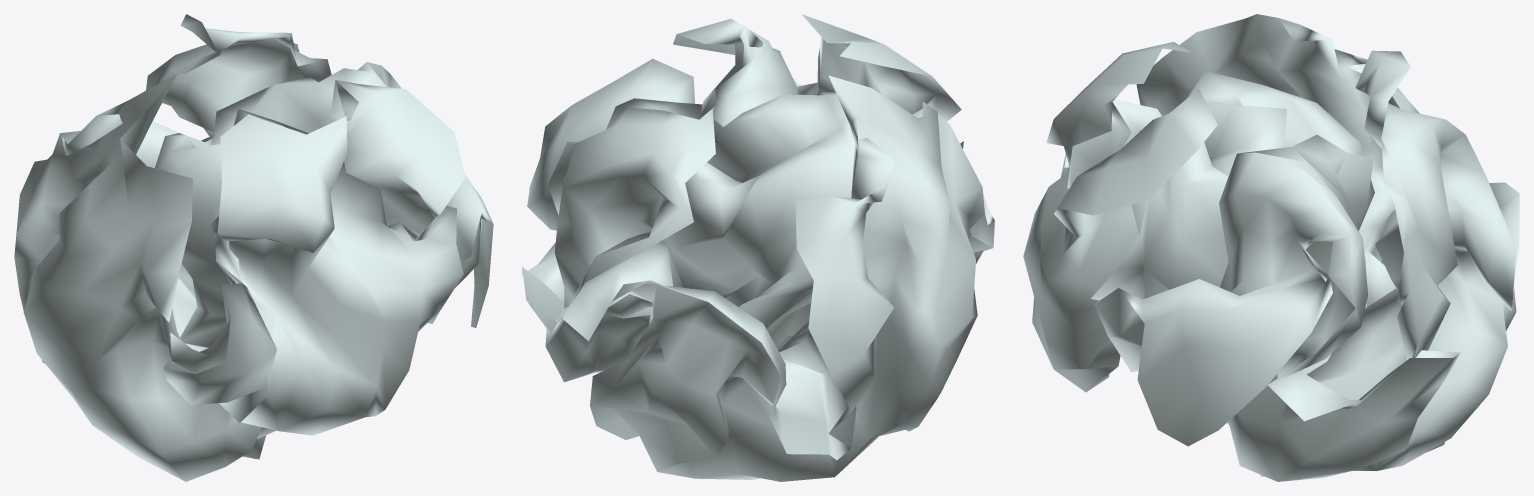
The model's file is papel.006.fbx.
3 views of the same model, side by side, from view 1: azimuth 30°, elevation 25°; view 2: azimuth 150°, elevation 25°; view 3: azimuth 270°, elevation 25° (orthographic). The views are drawn at different scales.
Visible parts, largest first — view 1: papel.006; view 2: papel.006; view 3: papel.006.
Boxes of the visible parts, <box> form: papel.006: <box>14,14,493,481</box>; papel.006: <box>522,14,994,481</box>; papel.006: <box>1023,14,1519,481</box>.
Size of the model in its own units: 113 by 105 by 110.
